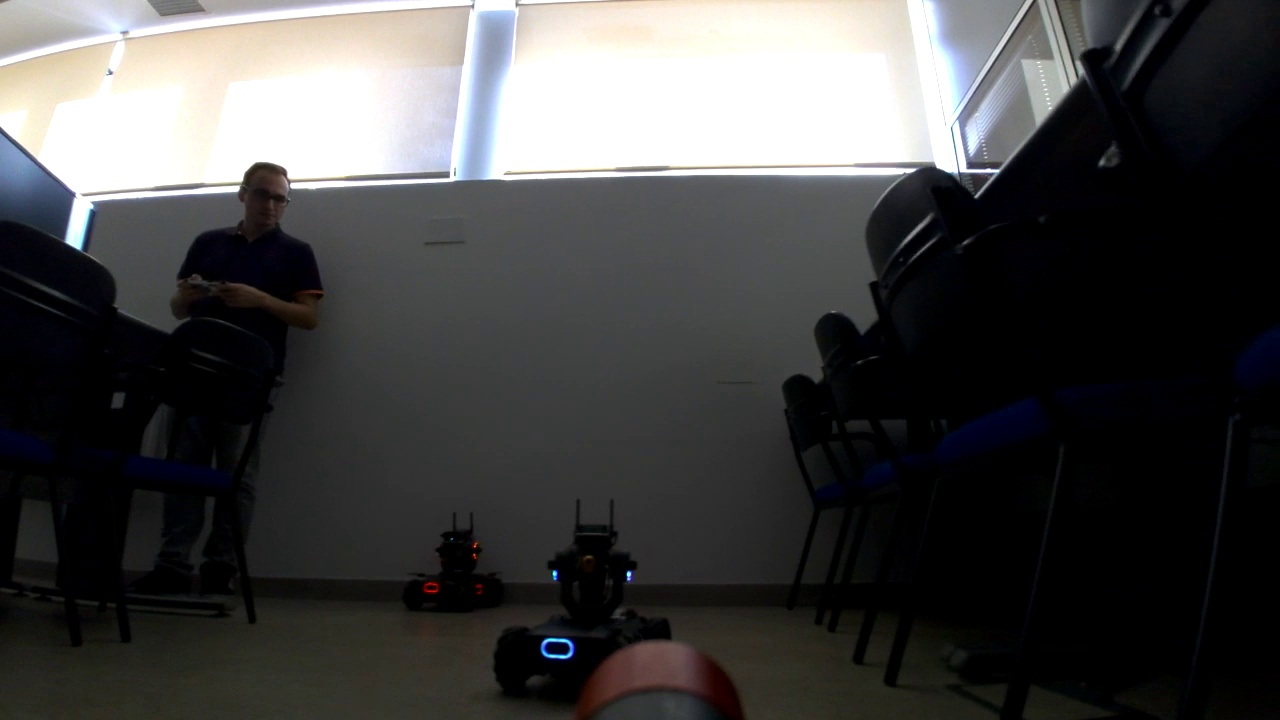robot: (489, 497, 674, 707), (402, 511, 501, 613)
